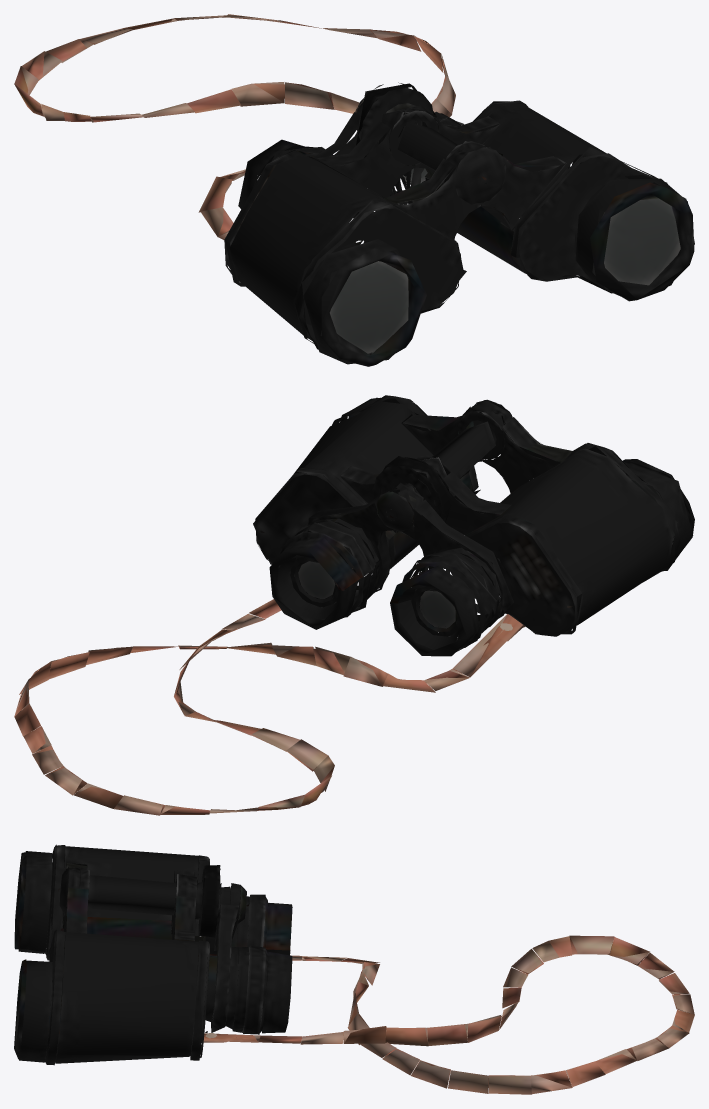
Rendered from binoculars.glb.
3 renders of one model, top to bottom at view 1: azimuth 30°, elevation 25°; view 2: azimuth 150°, elevation 25°; view 3: azimuth 270°, elevation 25°, orthographic. The views are drawn at different scales.
Parts seen in each view (by area): view 1: binoculars_column; view 2: binoculars_column; view 3: binoculars_column.
Boxes of the visible parts, bbox=[...] form: binoculars_column: bbox=[14, 14, 694, 366]; binoculars_column: bbox=[14, 395, 694, 815]; binoculars_column: bbox=[14, 844, 694, 1094].
Bounding box in the file's own units: 0.1674 × 0.066 × 0.2881.
Materials: 2 (2 with a texture image).
